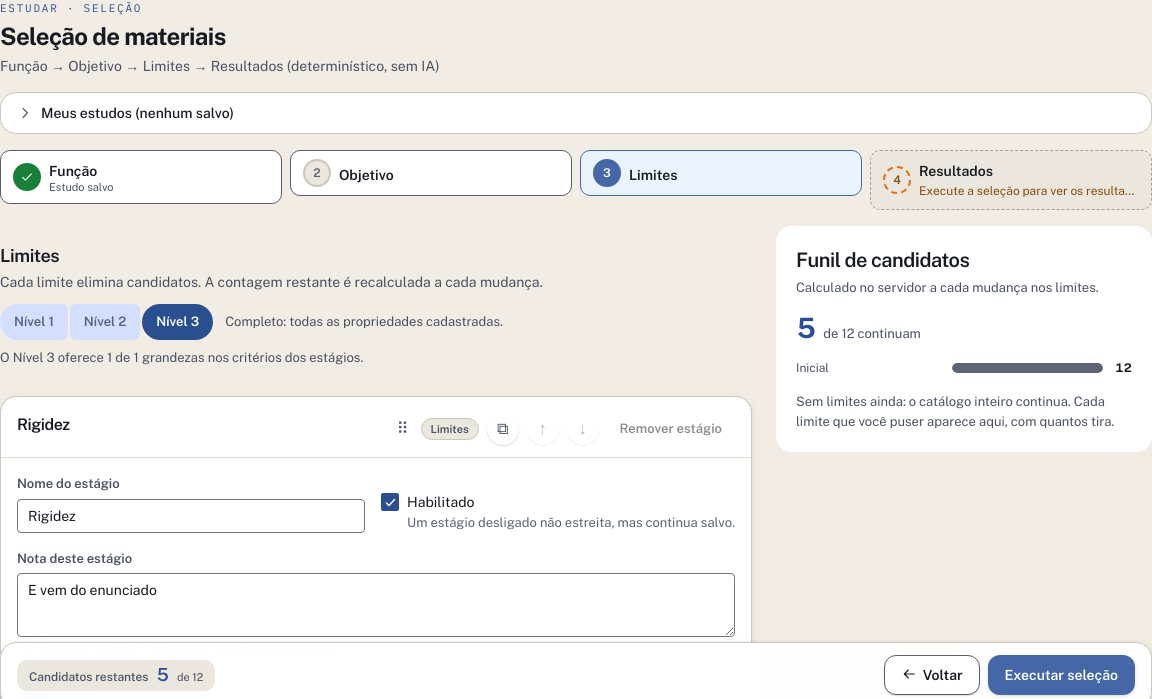
notas do estudo (D-122) › reopens a saved study with its note and its stage's note in place
Check: the text box showing "E vem do enunciado" is shown, box [17,573,735,637]
Click the button "Função Estudo salvo".
click(73, 171)  # box [0,150,282,204]
(page scrolled)
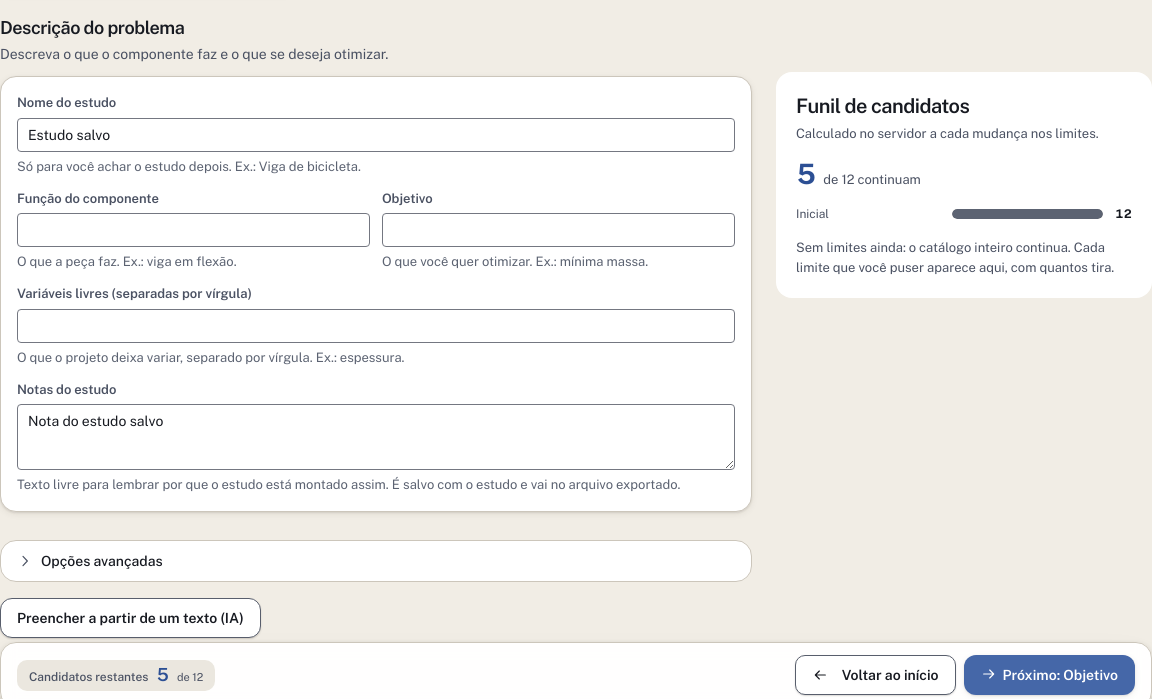
Check: the text box showing "Nota do estudo salvo" is shown, box [17,404,735,470]
